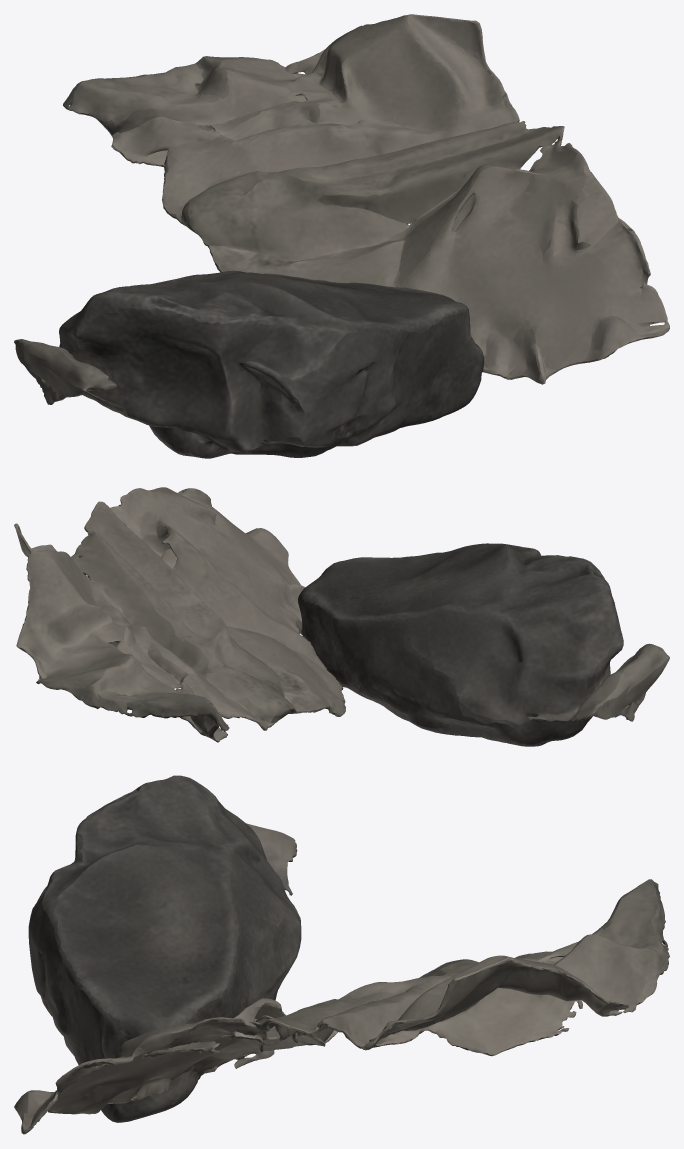
3 views of the same model, one above another, from view 1: azimuth 30°, elevation 25°; view 2: azimuth 150°, elevation 25°; view 3: azimuth 270°, elevation 25° (orthographic). The views are drawn at different scales.
Visible parts, largest first — view 1: world; view 2: world; view 3: world.
Boxes of the visible parts, x1=… form: world: x1=14, y1=14, x2=669, y2=458; world: x1=14, y1=487, x2=669, y2=746; world: x1=14, y1=775, x2=669, y2=1134.
Size of the model in its own units: 3.5 by 1.36 by 3.44.
1 material, 1 textured.
